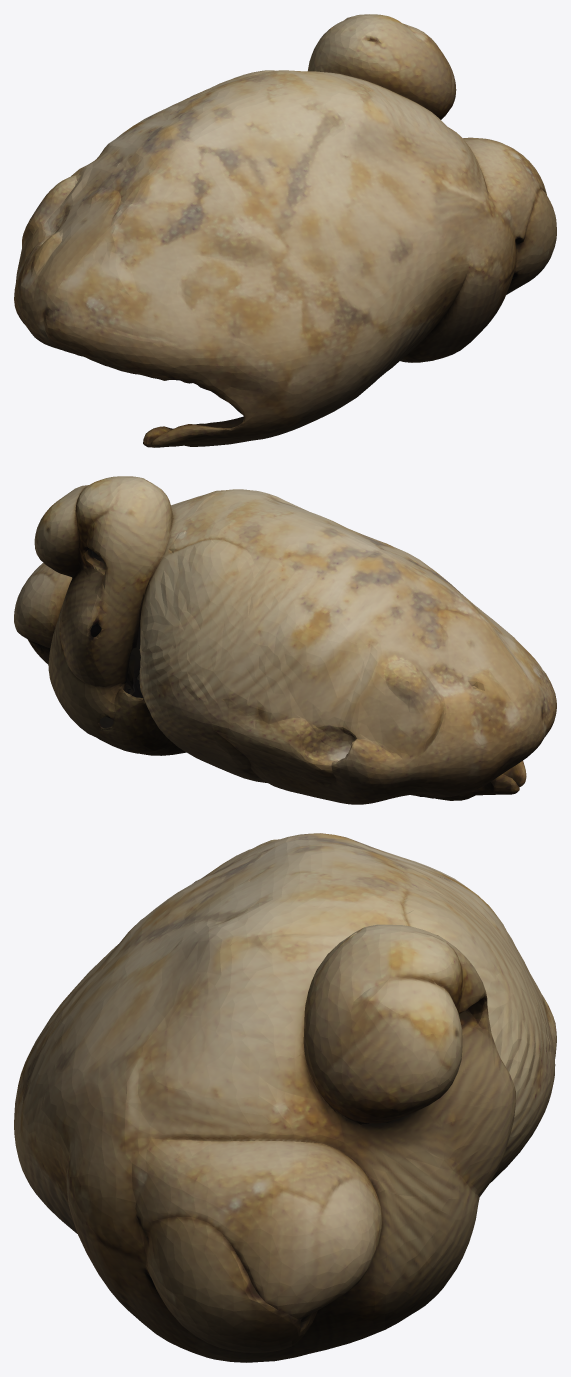
3 renders of one model, top to bottom at view 1: azimuth 30°, elevation 25°; view 2: azimuth 150°, elevation 25°; view 3: azimuth 270°, elevation 25°, orthographic. The views are drawn at different scales.
Parts seen in each view (by area): view 1: world; view 2: world; view 3: world.
Boxes of the visible parts, x1,y1,x2,y2 form: world: [14, 14, 556, 447]; world: [14, 476, 556, 804]; world: [14, 833, 556, 1362].
Size of the model in its own units: 0.9989 by 0.5843 by 0.6361.
1 material, 1 textured.
